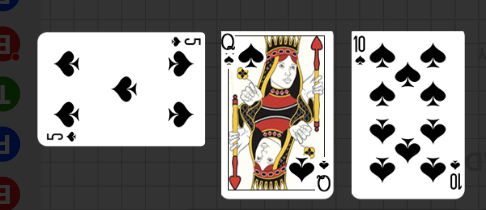10S: (447, 157, 462, 191)
5S: (45, 130, 79, 143), (169, 35, 202, 48)
